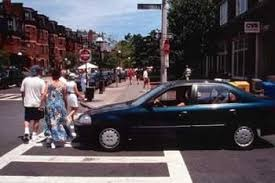car: (74, 80, 274, 151)
crosswalk: (0, 141, 192, 182), (64, 143, 72, 147)
pedestrian_walk: (153, 31, 163, 39)
person: (20, 66, 71, 148), (65, 73, 84, 121)
